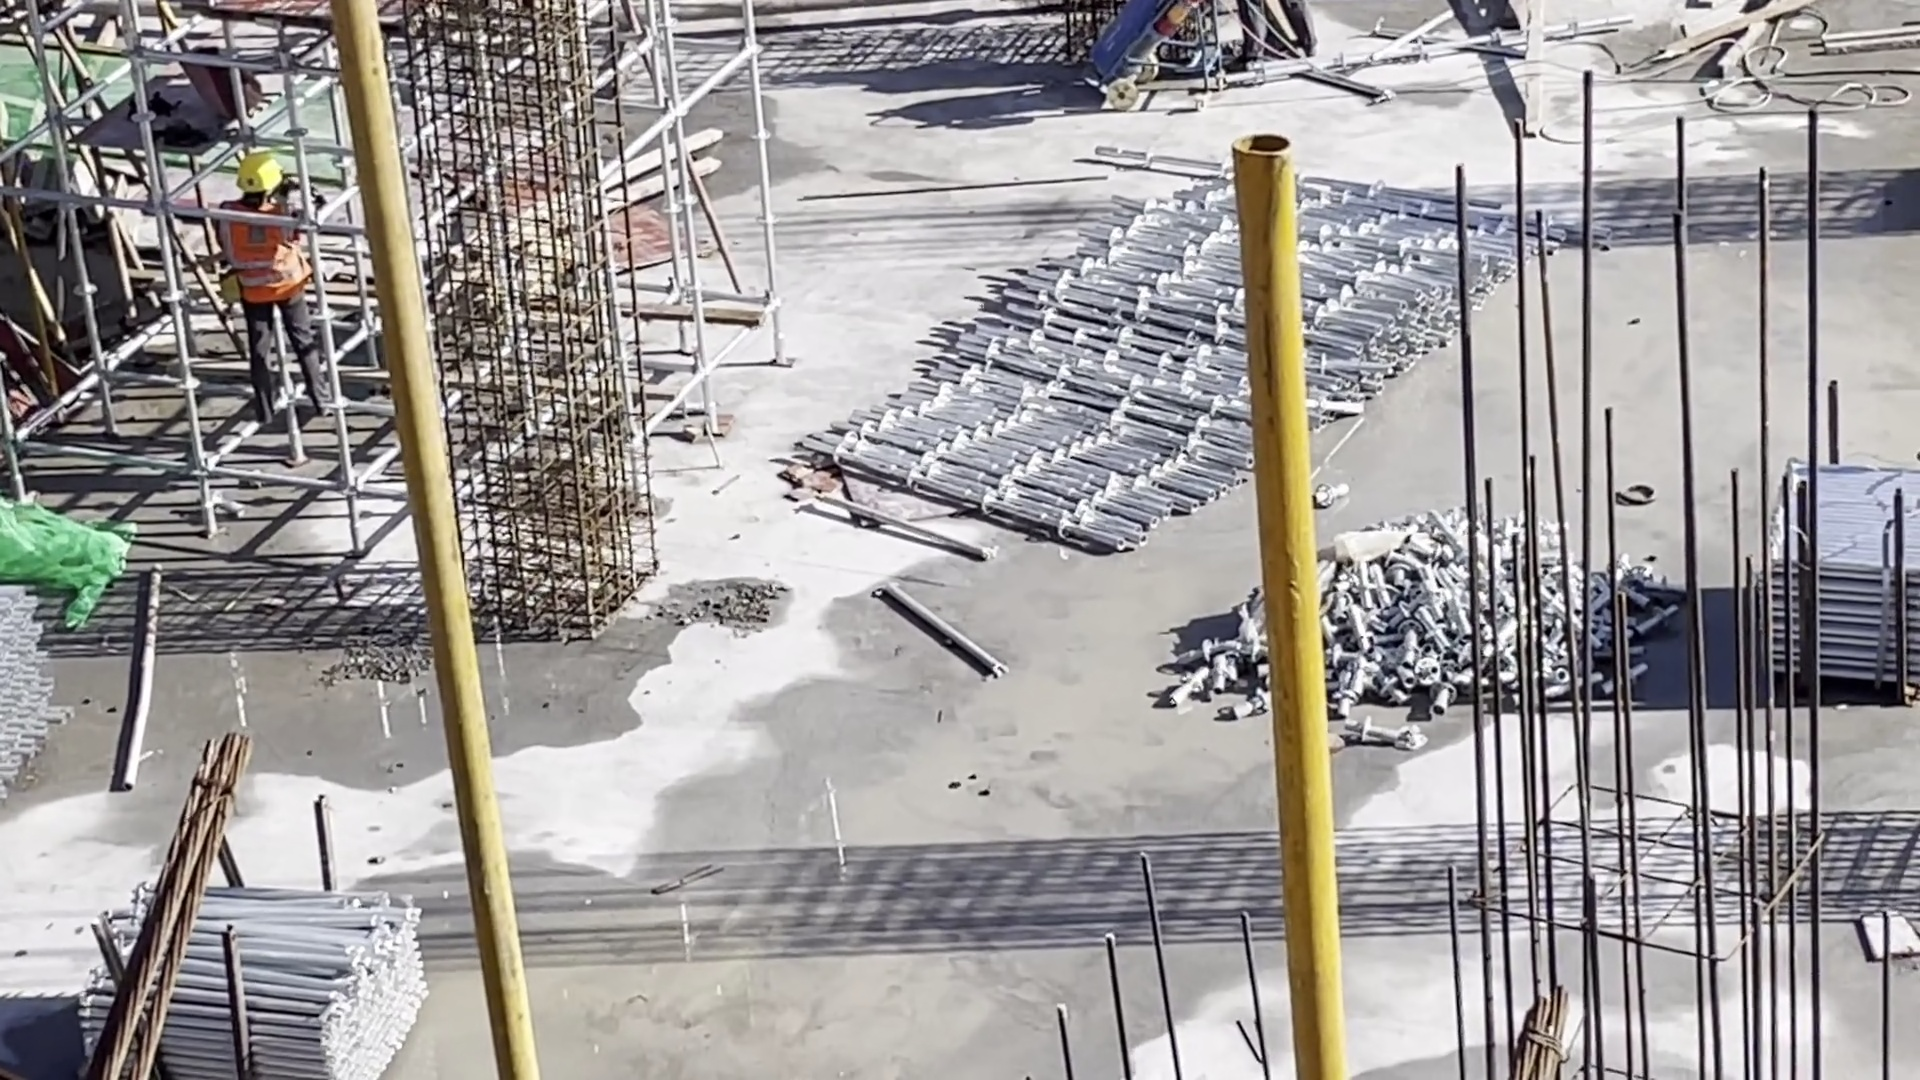helmet: (232, 157, 283, 190)
person: (212, 156, 344, 423)
scaffold: (798, 146, 1618, 550), (83, 872, 426, 1080), (1765, 452, 1920, 691)
vest: (218, 199, 311, 305)
